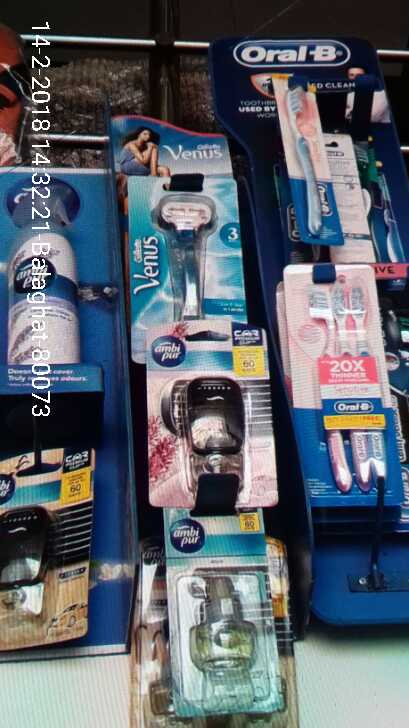beauty: (121, 178, 242, 324)
home: (165, 504, 284, 712), (147, 323, 278, 508), (4, 443, 92, 647)
pharmacy: (285, 258, 404, 504), (277, 63, 344, 241)
